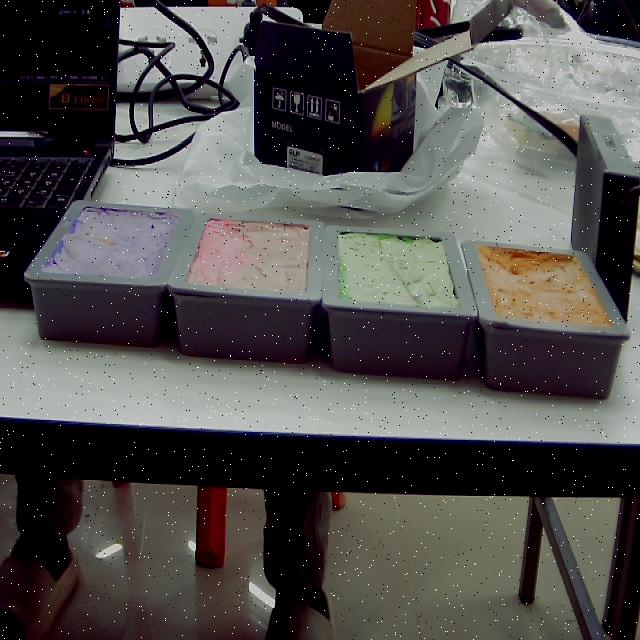block: (460, 242, 631, 398), (23, 202, 198, 348), (164, 212, 326, 363), (320, 228, 479, 381)
